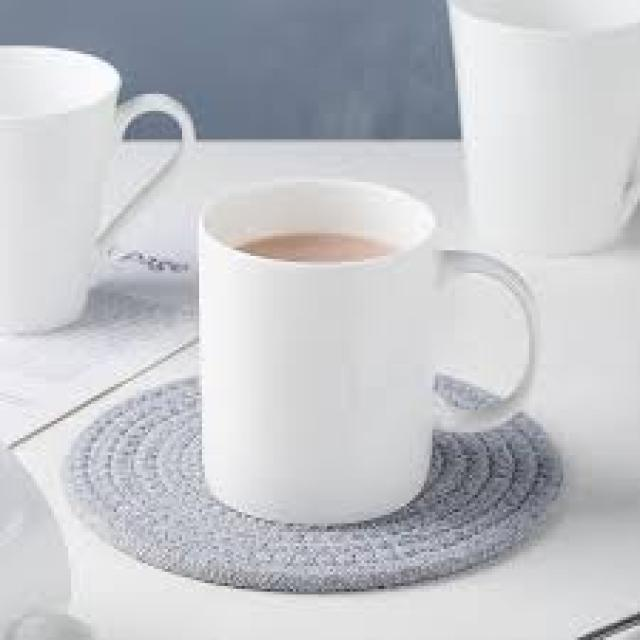taza: (199, 176, 541, 527)
